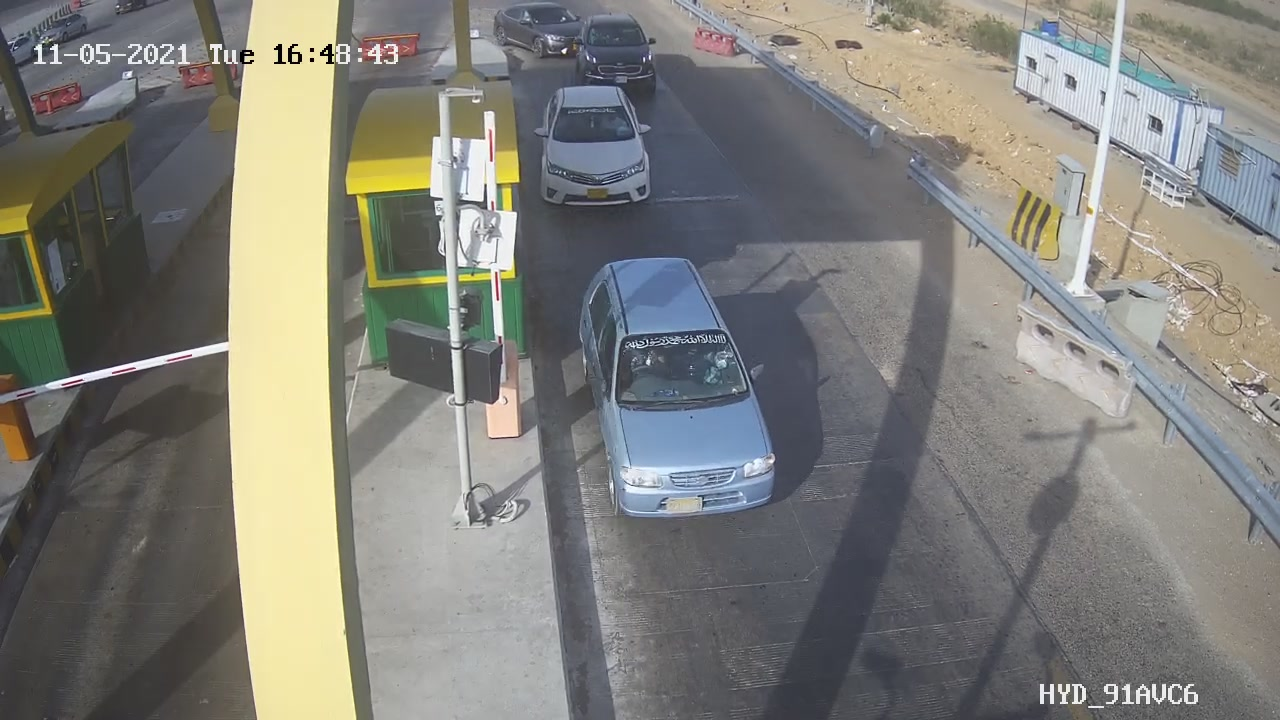F1: (530, 78, 679, 226), (561, 7, 673, 103)
